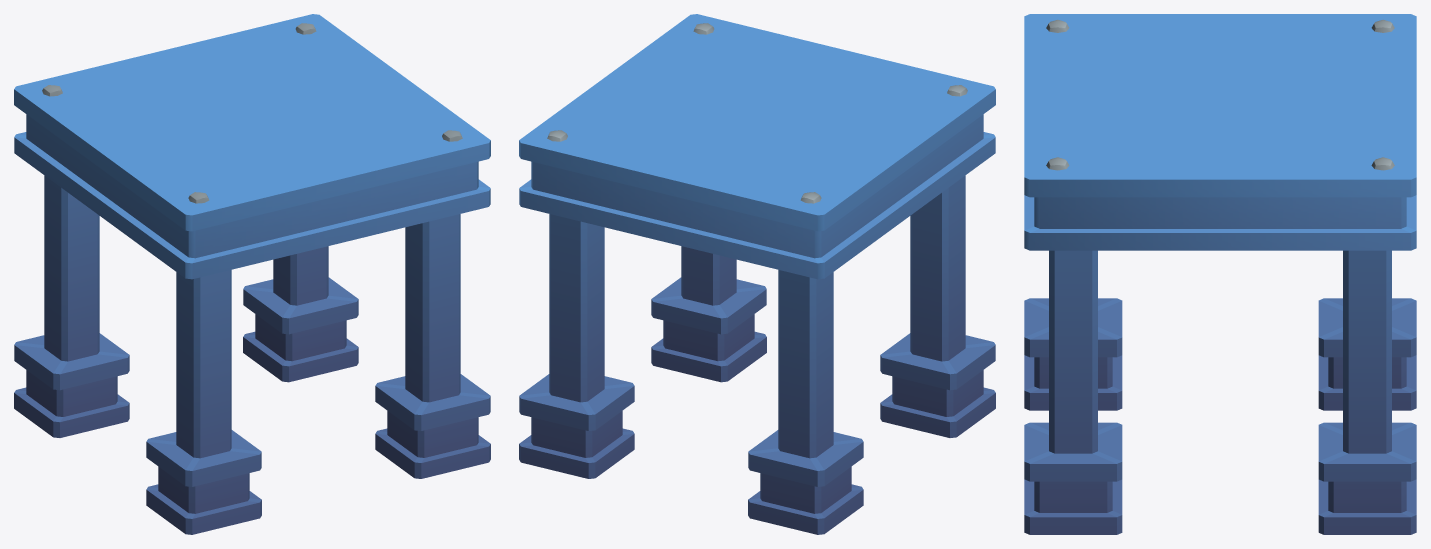
The model's file is scaffold.gltf.glb.
The picture shows the model from 3 angles, left to right: view 1: azimuth 30°, elevation 25°; view 2: azimuth 150°, elevation 25°; view 3: azimuth 270°, elevation 25°; orthographic projection. The views are drawn at different scales.
Parts seen in each view (by area): view 1: scaffold; view 2: scaffold; view 3: scaffold.
Part boxes in pixels (x1,y1,x2,y2): scaffold: (14,14,490,534); scaffold: (519,14,995,534); scaffold: (1024,14,1416,534).
Bounding box in the file's own units: 2 × 2.04 × 2.
1 material, 1 textured.
